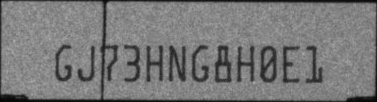0: (258, 44, 276, 83)
1: (305, 44, 324, 83)
3: (123, 42, 140, 82)
7: (99, 44, 118, 80)
8: (214, 43, 232, 82)
E: (282, 45, 301, 83)
G: (191, 44, 210, 82), (54, 42, 72, 81)
H: (235, 44, 254, 82), (146, 43, 164, 82)
J: (76, 45, 94, 81)
N: (168, 43, 187, 81)
